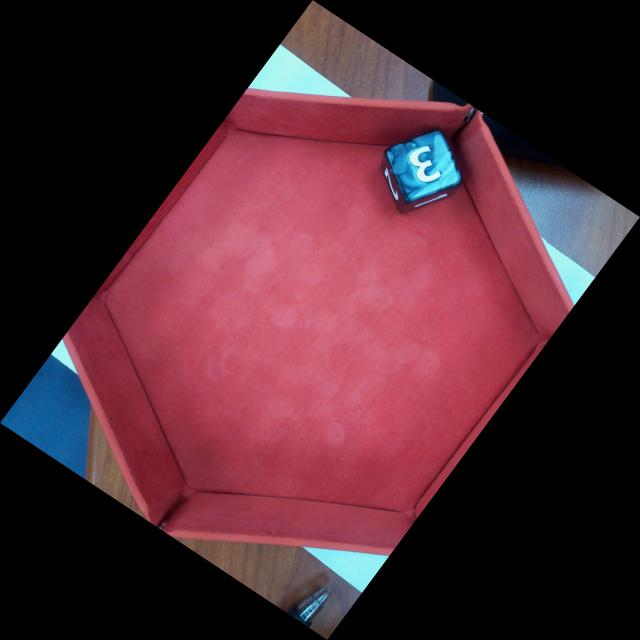dice: (388, 133, 463, 203)
